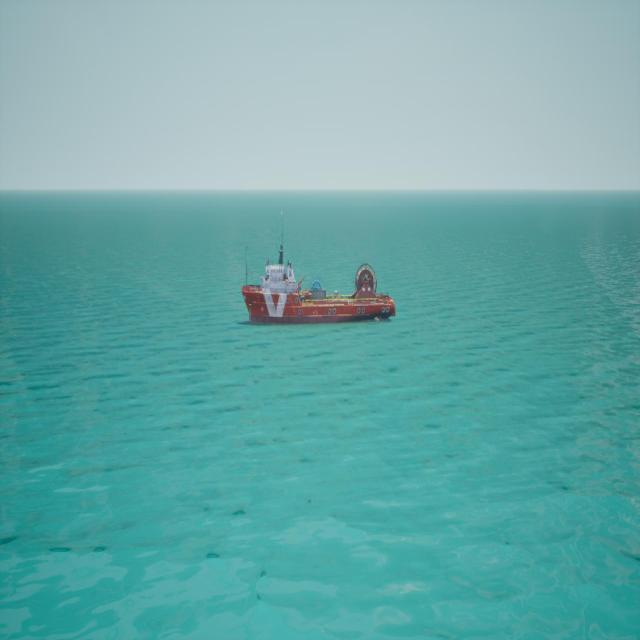tug boat: (240, 210, 396, 328)
